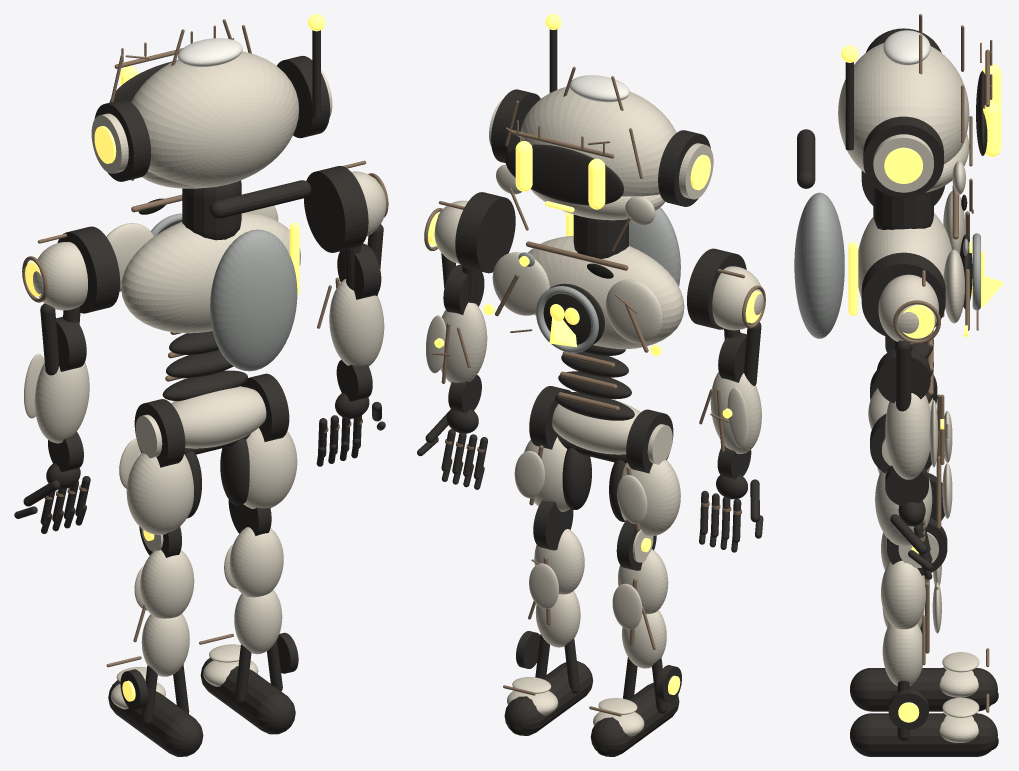
Rendered from robot_showcase.glb.
3 renders of one model, left to right at view 1: azimuth 30°, elevation 25°; view 2: azimuth 150°, elevation 25°; view 3: azimuth 270°, elevation 25°, orthographic. The views are drawn at different scales.
Visible parts, largest first — view 1: HelmetLargeIvoryDome, BackpackRoundedMain, UpperChestIvoryShell, RightShoulderBlackRing, LeftThighOuterArmor, PelvisIvoryCup, RightForearmIvoryMain, LeftForearmIvoryMain, RightThighOuterArmor, RightFootBase, RightShinArmorUpper, LeftShinArmorUpper (+35 smaller); view 2: HelmetLargeIvoryDome, UpperChestIvoryShell, RightShoulderBlackRing, VisorBlackGlass, LeftChestRaisedPlate, RightForearmIvoryMain, PelvisIvoryCup, RightFootBase, LeftThighOuterArmor, LeftFootBase, RightChestRaisedPlate, LeftShoulderBlackRing (+48 smaller); view 3: HelmetLargeIvoryDome, BackpackRoundedMain, RightFootBase, LeftFootBase, UpperChestIvoryShell, RightForearmIvoryMain, RightShoulderBlackRing, RightEarDarkRing, RightShinArmorUpper, RightShoulderIvoryArmor, NeckBlackStackA, RightShinArmorLower (+41 smaller).
Part boxes in pixels (<box>): HelmetLargeIvoryDome: <box>131,51,298,187</box>; BackpackRoundedMain: <box>210,229,297,371</box>; UpperChestIvoryShell: <box>121,212,300,333</box>; RightShoulderBlackRing: <box>304,166,368,252</box>; LeftThighOuterArmor: <box>126,453,193,534</box>; PelvisIvoryCup: <box>171,386,266,448</box>; RightForearmIvoryMain: <box>329,279,384,366</box>; LeftForearmIvoryMain: <box>34,362,89,443</box>; RightThighOuterArmor: <box>243,428,297,508</box>; RightFootBase: <box>200,658,295,734</box>; RightShinArmorUpper: <box>229,527,283,597</box>; LeftShinArmorUpper: <box>140,550,194,618</box>; HelmetLargeIvoryDome: <box>520,87,676,196</box>; UpperChestIvoryShell: <box>528,236,684,349</box>; RightShoulderBlackRing: <box>455,192,515,273</box>; VisorBlackGlass: <box>505,144,623,205</box>; LeftChestRaisedPlate: <box>605,279,663,343</box>; RightForearmIvoryMain: <box>440,302,487,382</box>; PelvisIvoryCup: <box>552,400,640,454</box>; RightFootBase: <box>504,661,593,735</box>; LeftThighOuterArmor: <box>620,460,680,536</box>; LeftFootBase: <box>590,682,679,756</box>; RightChestRaisedPlate: <box>492,252,549,315</box>; LeftShoulderBlackRing: <box>687,248,746,329</box>; HelmetLargeIvoryDome: <box>838,42,969,173</box>; BackpackRoundedMain: <box>794,192,844,338</box>; RightFootBase: <box>850,713,997,756</box>; LeftFootBase: <box>850,668,997,711</box>; UpperChestIvoryShell: <box>858,213,952,308</box>; RightForearmIvoryMain: <box>885,393,930,479</box>; RightShoulderBlackRing: <box>861,252,945,338</box>; RightEarDarkRing: <box>863,116,943,198</box>; RightShinArmorUpper: <box>881,560,925,629</box>; RightShoulderIvoryArmor: <box>878,274,938,344</box>; NeckBlackStackA: <box>873,186,933,229</box>; RightShinArmorLower: <box>882,623,922,685</box>.
Bounding box in the file's own units: 2.55 × 4.75 × 1.25.
